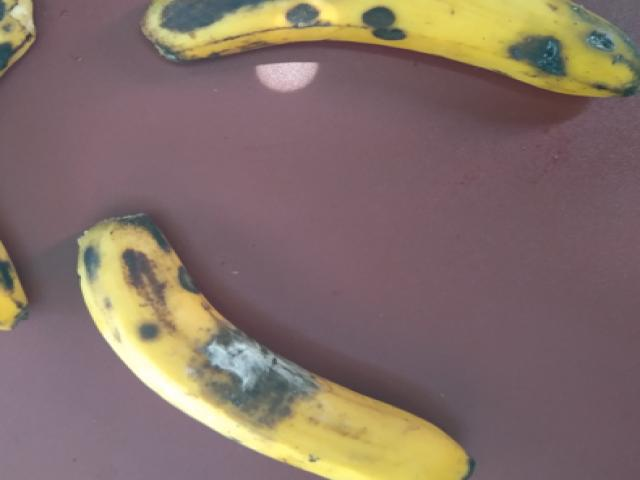overripe: (58, 207, 484, 479), (122, 0, 639, 112)
rotten: (172, 299, 340, 436)
